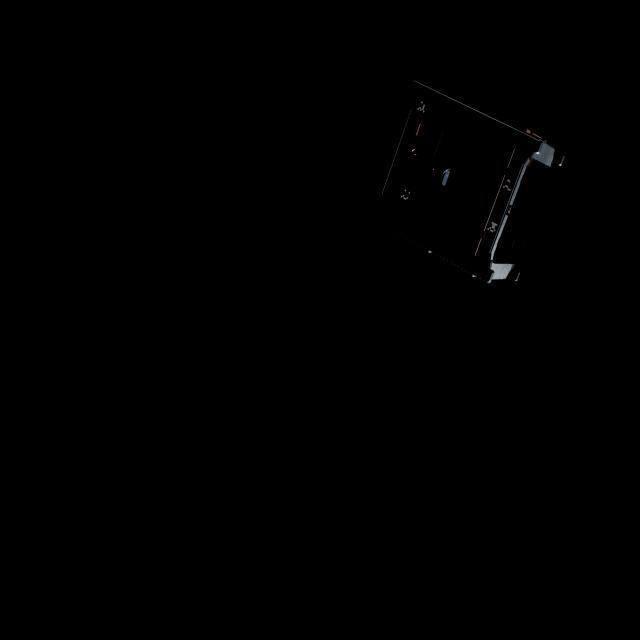satellite: (374, 75, 570, 306)
